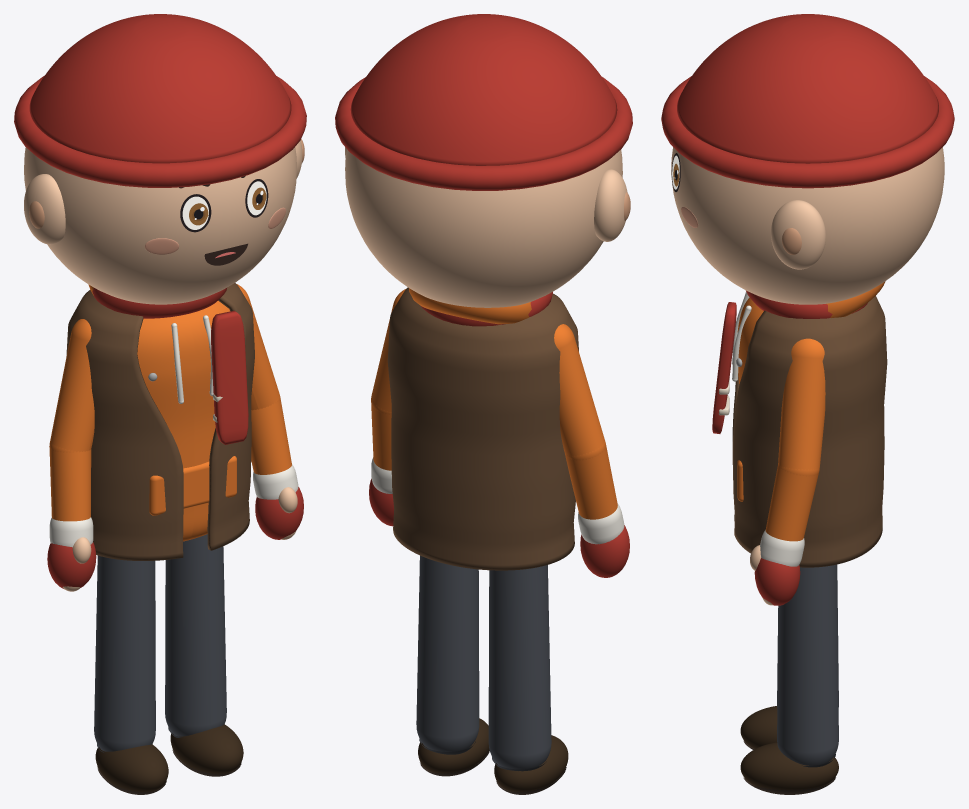
File: hoofdpersonage_ijs.glb
3 views of the same model, side by side, from view 1: azimuth 30°, elevation 25°; view 2: azimuth 150°, elevation 25°; view 3: azimuth 270°, elevation 25° (orthographic).
Visible parts, largest first — view 1: hoofdpersonage_ijs_muts, hoofdpersonage_ijs_jas, hoofdpersonage_ijs_hoofd, hoofdpersonage_ijs_been_R, hoofdpersonage_ijs_been_L, hoofdpersonage_ijs_romp, hoofdpersonage_ijs_muts_rand, hoofdpersonage_ijs_sjaal_eind, hoofdpersonage_ijs_bovenarm_R, hoofdpersonage_ijs_onderarm_R, hoofdpersonage_ijs_schoen_R, hoofdpersonage_ijs_schoen_L (+10 smaller); view 2: hoofdpersonage_ijs_jas, hoofdpersonage_ijs_muts, hoofdpersonage_ijs_hoofd, hoofdpersonage_ijs_been_R, hoofdpersonage_ijs_been_L, hoofdpersonage_ijs_muts_rand, hoofdpersonage_ijs_bovenarm_R, hoofdpersonage_ijs_onderarm_R, hoofdpersonage_ijs_oor_R, hoofdpersonage_ijs_schoen_R, hoofdpersonage_ijs_capuchon, hoofdpersonage_ijs_schoen_L (+6 smaller); view 3: hoofdpersonage_ijs_muts, hoofdpersonage_ijs_jas, hoofdpersonage_ijs_hoofd, hoofdpersonage_ijs_been_L, hoofdpersonage_ijs_muts_rand, hoofdpersonage_ijs_bovenarm_L, hoofdpersonage_ijs_schoen_L, hoofdpersonage_ijs_onderarm_L, hoofdpersonage_ijs_oor_L, hoofdpersonage_ijs_want_L, hoofdpersonage_ijs_sjaal_eind, hoofdpersonage_ijs_schoen_R (+4 smaller).
Part boxes in pixels (bbox=[...]): hoofdpersonage_ijs_muts: bbox=[29, 14, 291, 163]; hoofdpersonage_ijs_jas: bbox=[66, 283, 254, 560]; hoofdpersonage_ijs_hoofd: bbox=[24, 147, 296, 304]; hoofdpersonage_ijs_been_R: bbox=[94, 555, 155, 751]; hoofdpersonage_ijs_been_L: bbox=[165, 534, 226, 736]; hoofdpersonage_ijs_romp: bbox=[137, 301, 230, 541]; hoofdpersonage_ijs_muts_rand: bbox=[14, 75, 306, 187]; hoofdpersonage_ijs_sjaal_eind: bbox=[211, 310, 248, 444]; hoofdpersonage_ijs_bovenarm_R: bbox=[49, 319, 94, 452]; hoofdpersonage_ijs_onderarm_R: bbox=[49, 445, 91, 521]; hoofdpersonage_ijs_schoen_R: bbox=[95, 744, 168, 792]; hoofdpersonage_ijs_schoen_L: bbox=[170, 724, 243, 774]; hoofdpersonage_ijs_jas: bbox=[387, 287, 578, 570]; hoofdpersonage_ijs_muts: bbox=[350, 14, 617, 165]; hoofdpersonage_ijs_hoofd: bbox=[345, 149, 622, 307]; hoofdpersonage_ijs_been_R: bbox=[488, 565, 551, 769]; hoofdpersonage_ijs_been_L: bbox=[416, 555, 479, 751]; hoofdpersonage_ijs_muts_rand: bbox=[335, 77, 632, 190]; hoofdpersonage_ijs_bovenarm_R: bbox=[554, 324, 605, 459]; hoofdpersonage_ijs_onderarm_R: bbox=[565, 444, 617, 519]; hoofdpersonage_ijs_oor_R: bbox=[594, 169, 627, 241]; hoofdpersonage_ijs_schoen_R: bbox=[494, 735, 568, 792]; hoofdpersonage_ijs_capuchon: bbox=[409, 288, 531, 324]; hoofdpersonage_ijs_schoen_L: bbox=[418, 718, 489, 773]; hoofdpersonage_ijs_muts: bbox=[677, 14, 938, 163]; hoofdpersonage_ijs_jas: bbox=[732, 296, 887, 567]; hoofdpersonage_ijs_hoofd: bbox=[671, 147, 944, 304]; hoofdpersonage_ijs_been_L: bbox=[777, 564, 838, 765]; hoofdpersonage_ijs_muts_rand: bbox=[661, 76, 954, 188]; hoofdpersonage_ijs_bovenarm_L: bbox=[778, 338, 825, 475]; hoofdpersonage_ijs_schoen_L: bbox=[740, 742, 838, 790]; hoofdpersonage_ijs_onderarm_L: bbox=[765, 465, 819, 541]; hoofdpersonage_ijs_oor_L: bbox=[771, 200, 825, 269]; hoofdpersonage_ijs_want_L: bbox=[754, 558, 800, 605]; hoofdpersonage_ijs_sjaal_eind: bbox=[712, 302, 736, 433]; hoofdpersonage_ijs_schoen_R: bbox=[740, 706, 777, 748].
Bounding box in the file's own units: 0.6887 × 1.81 × 0.644.
